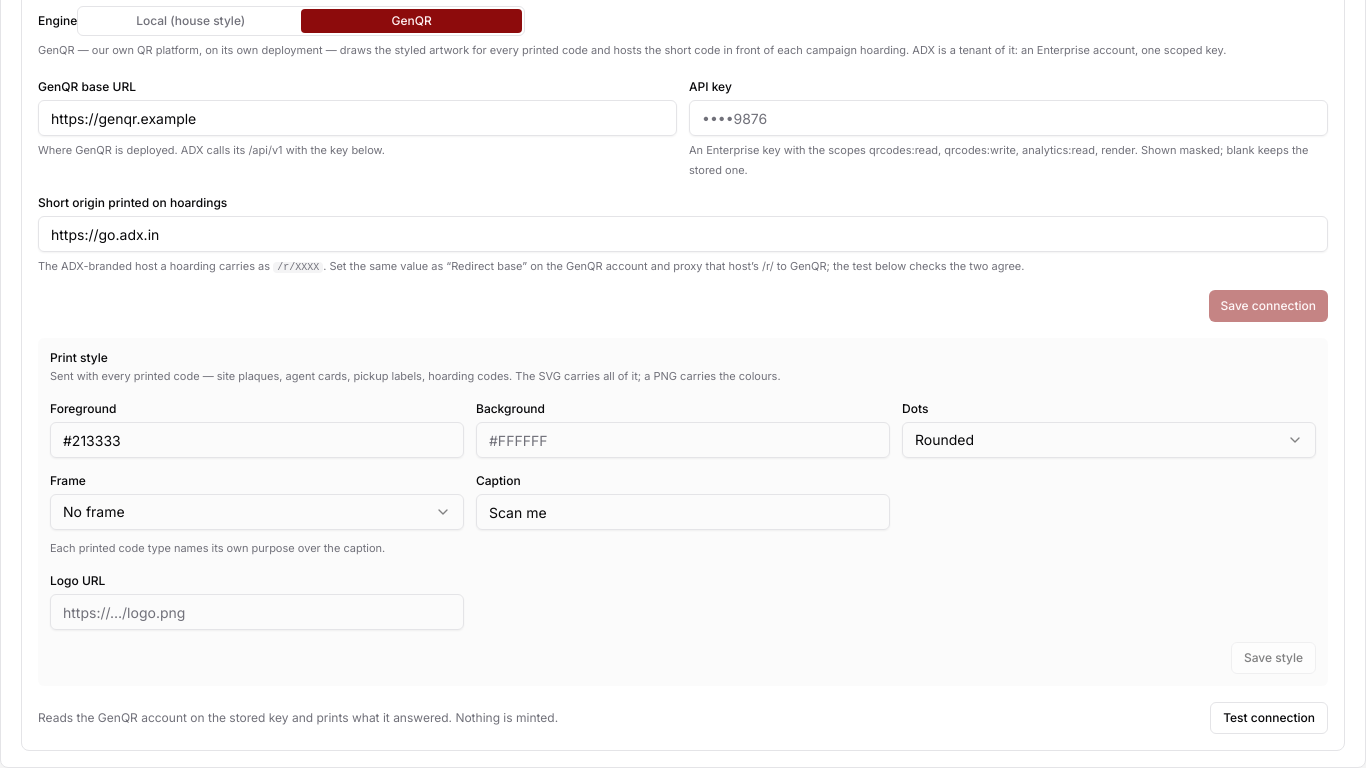
Test case: the test › a refused key is printed as refused with GenQR's sentence
(page scrolled)
What coordinates should you click on to do the following:
click the button "Test connection"
I would click on:
 (1269, 718)
Its box is [1210,702,1328,734].
(page scrolled)
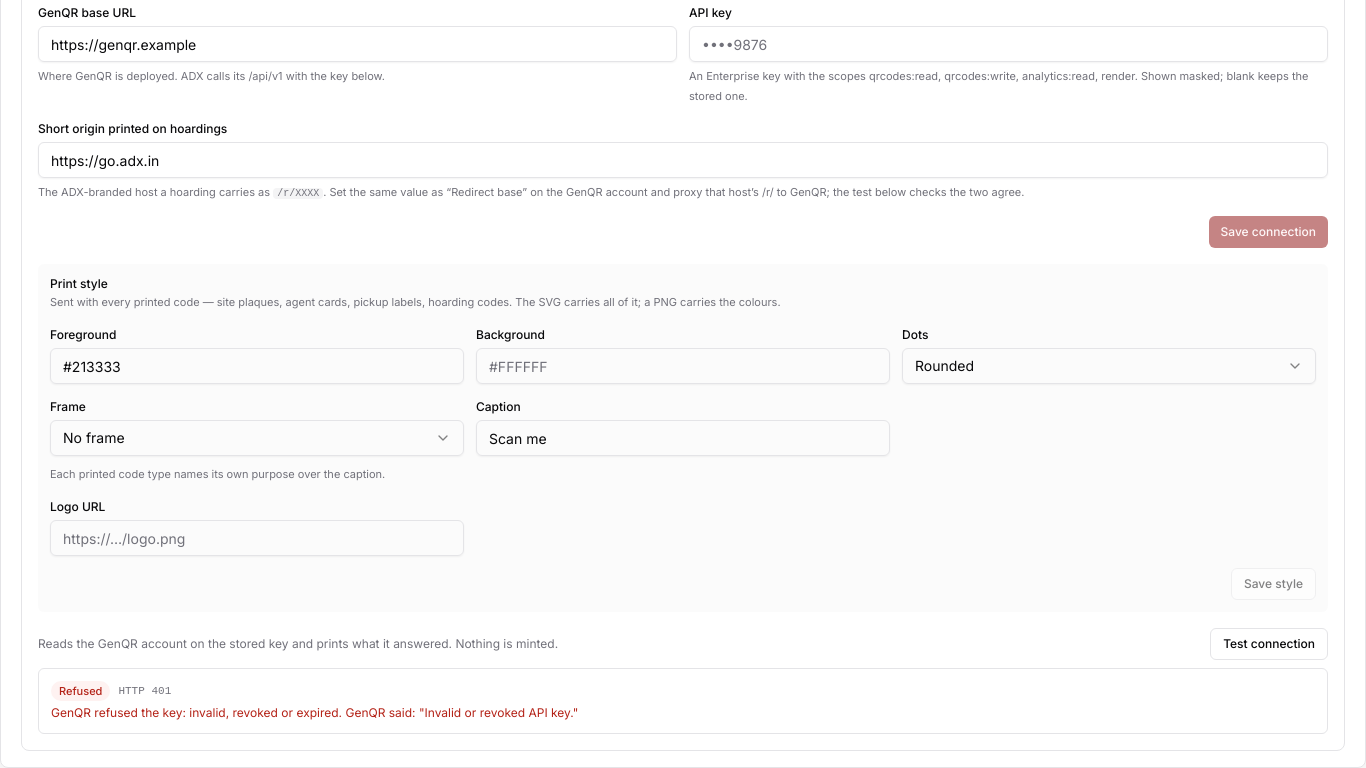
Now the text "Refused" is shown, box [51,681,110,701]
Now the text "Invalid or revoked API key" is shown, box [51,705,578,720]
